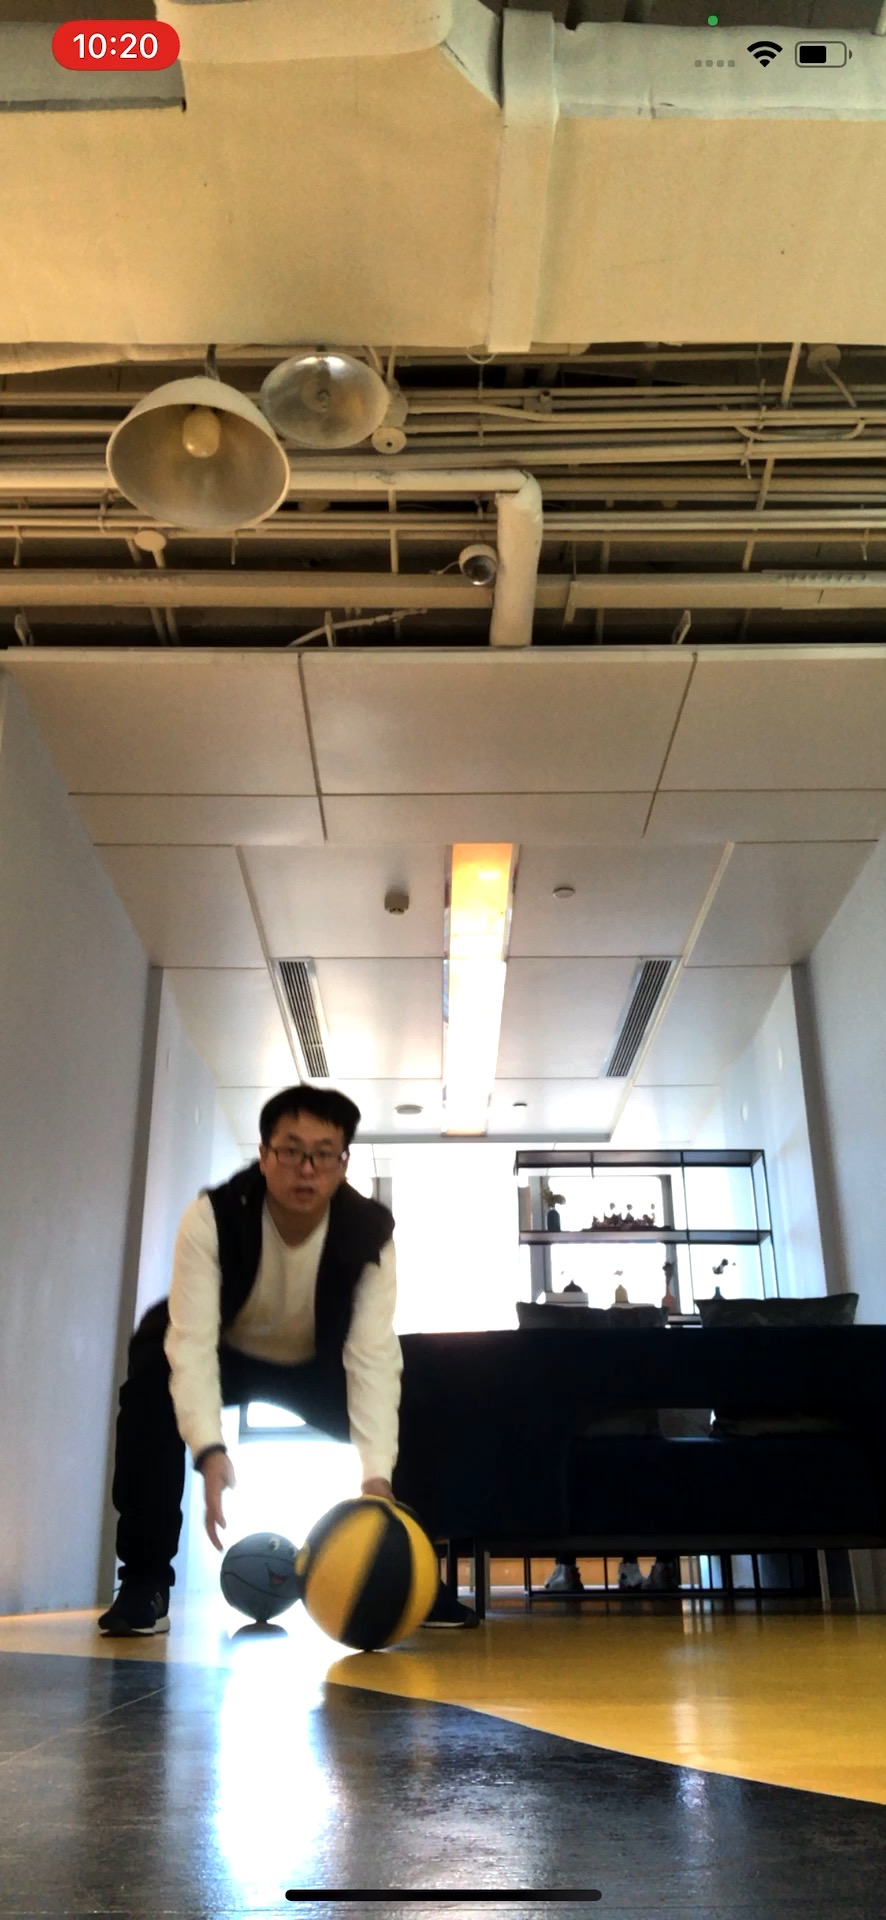ball: (300, 1496, 437, 1653), (217, 1531, 300, 1619)
